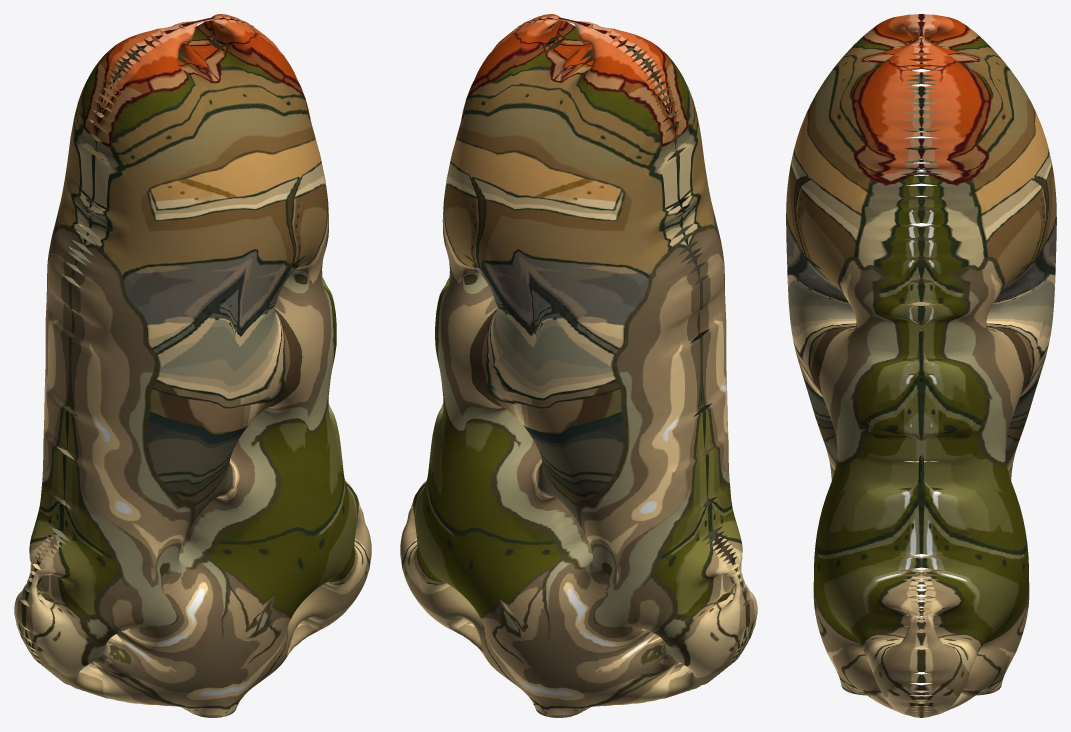
The model's file is open_capsule.glb.
3 views of the same model, side by side, from view 1: azimuth 30°, elevation 25°; view 2: azimuth 150°, elevation 25°; view 3: azimuth 270°, elevation 25° (orthographic).
Parts seen in each view (by area): view 1: open_capsule; view 2: open_capsule; view 3: open_capsule.
Boxes of the visible parts, x1,y1,x2,y2 form: open_capsule: [14, 14, 371, 717]; open_capsule: [400, 14, 757, 717]; open_capsule: [786, 14, 1056, 717].
Bounding box in the file's own units: 0.9796 × 1.83 × 0.6775.
1 material, 1 textured.
